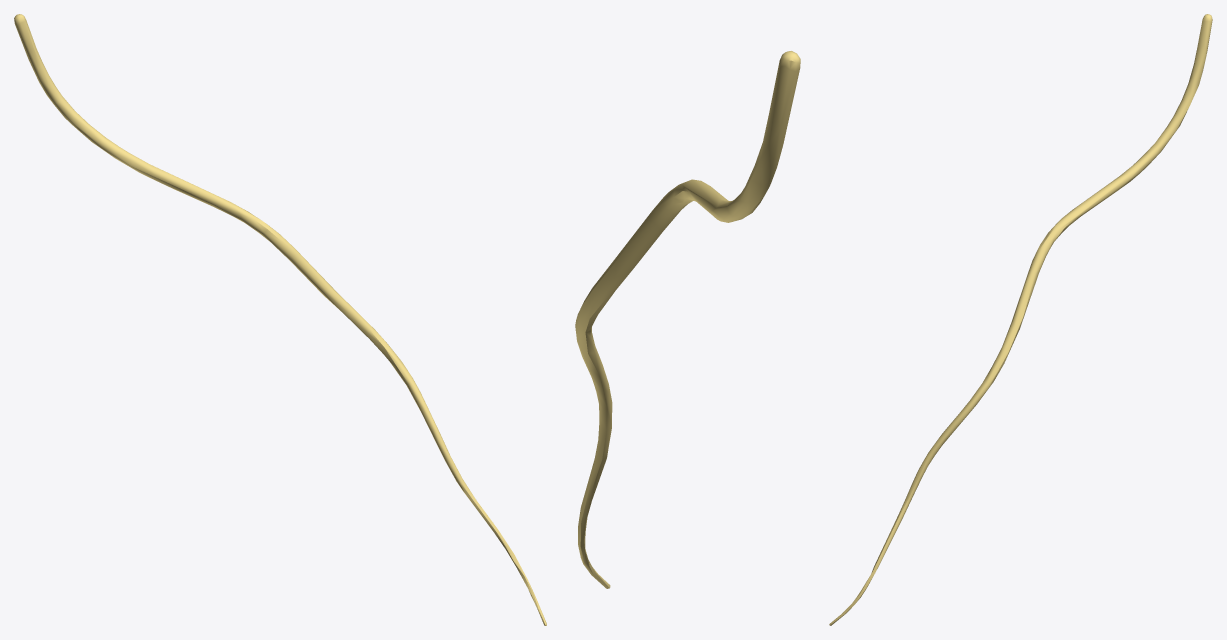
Rendered from fma44977_fj4269.glb.
3 views of the same model, side by side, from view 1: azimuth 30°, elevation 25°; view 2: azimuth 150°, elevation 25°; view 3: azimuth 270°, elevation 25° (orthographic). The views are drawn at different scales.
Visible parts, largest first — view 1: FMA44977_FJ4269; view 2: FMA44977_FJ4269; view 3: FMA44977_FJ4269.
Boxes of the visible parts, <box> form: FMA44977_FJ4269: <box>14,14,546,625</box>; FMA44977_FJ4269: <box>575,51,800,588</box>; FMA44977_FJ4269: <box>829,14,1212,625</box>.
Size of the model in its own units: 0.0587 by 0.0932 by 0.0682.
